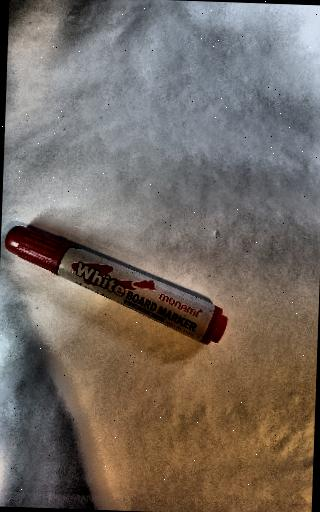marcador rojo: (4, 226, 227, 344)
